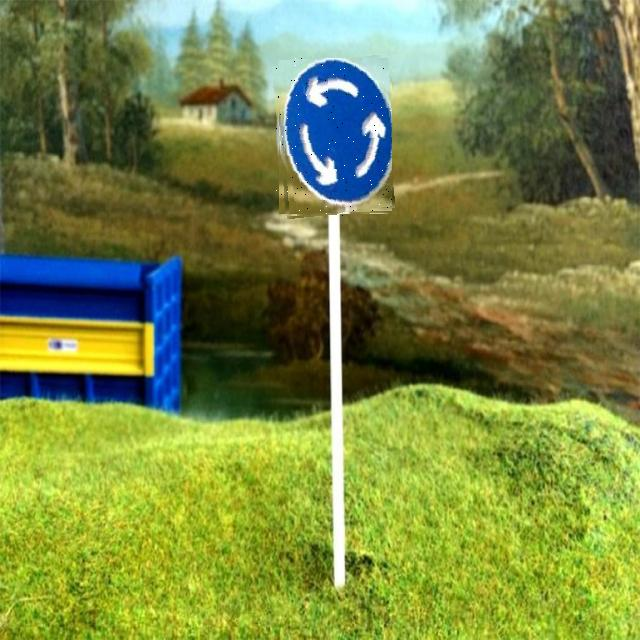roundabout: (275, 58, 392, 216)
